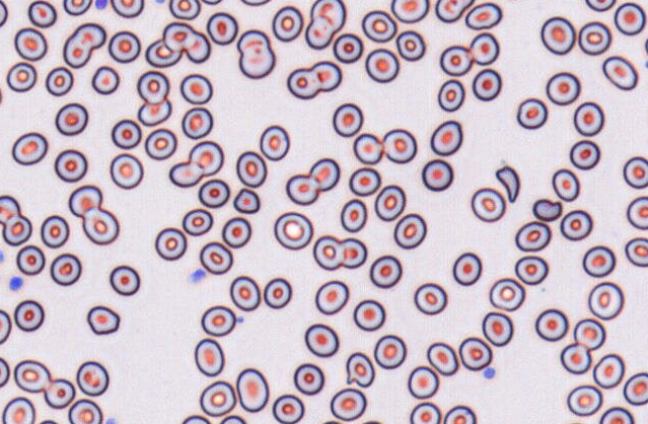PLT: (7, 275, 25, 293), (482, 366, 497, 382), (92, 0, 109, 12), (103, 416, 118, 424), (235, 315, 244, 324)
RBC: (62, 22, 106, 68), (236, 29, 275, 79), (273, 211, 313, 250), (235, 367, 269, 412), (587, 281, 624, 320), (82, 207, 119, 245), (540, 16, 575, 55), (199, 380, 236, 416), (13, 359, 51, 393), (188, 140, 223, 176), (602, 55, 638, 90), (329, 387, 366, 421), (470, 187, 505, 222), (364, 48, 399, 83), (382, 128, 417, 163), (109, 153, 143, 189), (314, 279, 348, 315), (489, 277, 525, 311), (11, 131, 47, 165), (393, 212, 426, 249), (430, 119, 463, 156), (458, 336, 492, 371), (304, 323, 339, 357), (545, 71, 580, 105), (361, 9, 397, 42), (76, 360, 109, 396), (374, 184, 406, 221), (235, 150, 267, 187), (373, 334, 406, 369), (271, 5, 303, 41), (566, 384, 602, 416), (514, 220, 551, 251), (259, 124, 290, 161), (194, 338, 224, 376), (136, 70, 169, 104), (68, 184, 102, 217), (14, 27, 47, 61), (369, 254, 402, 288), (199, 241, 233, 274), (54, 148, 87, 182), (413, 282, 447, 315), (534, 308, 568, 341), (578, 21, 611, 55), (286, 67, 321, 99), (310, 0, 345, 32), (285, 173, 320, 205), (592, 353, 624, 388), (481, 311, 513, 346), (426, 341, 458, 376), (312, 234, 343, 270), (200, 305, 236, 336), (229, 275, 260, 311), (55, 102, 88, 135), (613, 2, 646, 35), (154, 227, 187, 260), (308, 157, 340, 191), (206, 11, 238, 45), (407, 365, 439, 399), (439, 44, 473, 76), (332, 102, 363, 137), (573, 101, 604, 136), (145, 38, 182, 67), (465, 1, 502, 30), (144, 128, 177, 160), (181, 106, 213, 139), (108, 30, 140, 63), (352, 299, 385, 331), (582, 245, 615, 277), (421, 158, 453, 191), (345, 351, 374, 387), (573, 318, 605, 350), (560, 209, 592, 241), (162, 21, 195, 52), (293, 362, 324, 395), (179, 73, 212, 104), (50, 253, 81, 286), (514, 255, 548, 285), (43, 378, 75, 409), (352, 132, 383, 164), (560, 342, 591, 374), (13, 299, 44, 331), (109, 264, 140, 296), (516, 97, 547, 129), (2, 213, 32, 246), (469, 32, 499, 65), (348, 166, 381, 196), (271, 393, 304, 423), (471, 68, 501, 101), (452, 252, 482, 285), (304, 15, 333, 49), (40, 214, 69, 248), (168, 160, 204, 187), (310, 60, 341, 91), (332, 32, 363, 63), (569, 139, 600, 170), (395, 29, 425, 61), (221, 216, 251, 248), (6, 61, 36, 92), (111, 118, 141, 149), (198, 178, 229, 208), (263, 277, 292, 309), (551, 168, 579, 201), (434, 0, 474, 23), (1, 396, 35, 423), (340, 198, 367, 232), (16, 244, 45, 275), (182, 207, 213, 236), (390, 0, 429, 23), (437, 79, 465, 111), (184, 30, 211, 63), (68, 398, 103, 423), (622, 155, 647, 189), (45, 66, 73, 96), (340, 237, 367, 268), (91, 65, 119, 94), (27, 0, 56, 28), (623, 372, 647, 405), (624, 236, 647, 267), (409, 401, 441, 423), (626, 196, 647, 229), (168, 0, 200, 20), (443, 404, 476, 423), (110, 0, 144, 18), (599, 406, 634, 423), (0, 194, 20, 223), (63, 0, 92, 15), (0, 308, 11, 344), (584, 0, 616, 11), (0, 356, 10, 387), (180, 414, 211, 423), (219, 414, 246, 423), (0, 0, 8, 27), (240, 0, 271, 6), (560, 420, 590, 424), (359, 419, 383, 424), (37, 419, 60, 424), (321, 419, 342, 424), (201, 0, 222, 5), (0, 80, 3, 108), (501, 0, 528, 3)
Schistocyte: (87, 304, 122, 335), (495, 165, 521, 203), (137, 99, 172, 126), (233, 188, 261, 214), (532, 198, 563, 221)
